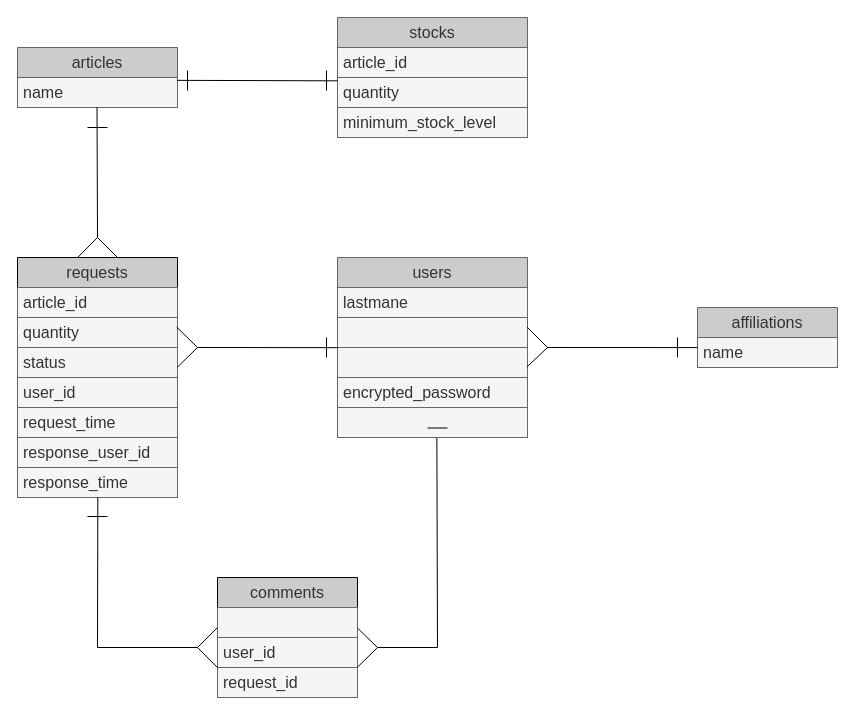
Some shapes in this 855 by 715 pixel diagram are drawn without their labels. The centre of each missing label's shape, as x and y in pixels:
"affiliation_id" belongs at point 432,422.
"content" belongs at point 287,622.
"email" belongs at point 432,362.
"firstmane" belongs at point 432,332.
